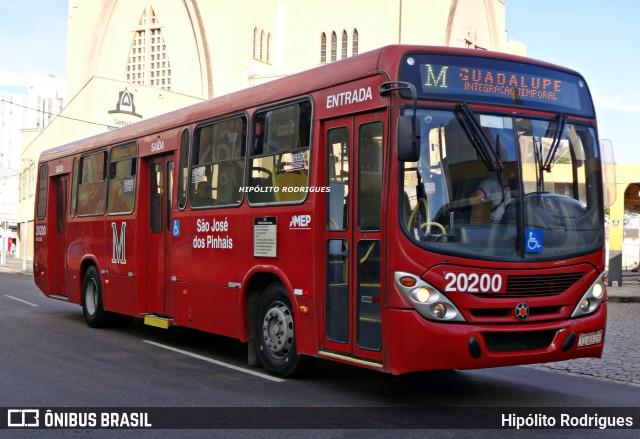GUADALUPE: (457, 63, 567, 95)
